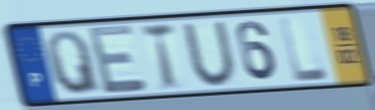6: (235, 20, 279, 83)
E: (85, 22, 151, 98)
L: (277, 14, 332, 84)
Q: (44, 28, 104, 97)
T: (139, 21, 180, 93)
U: (180, 19, 241, 89)
